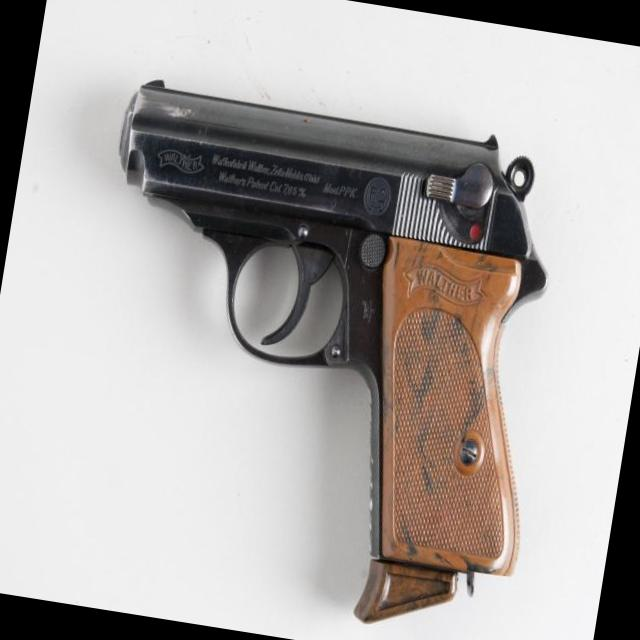Gun: (118, 80, 547, 623)
